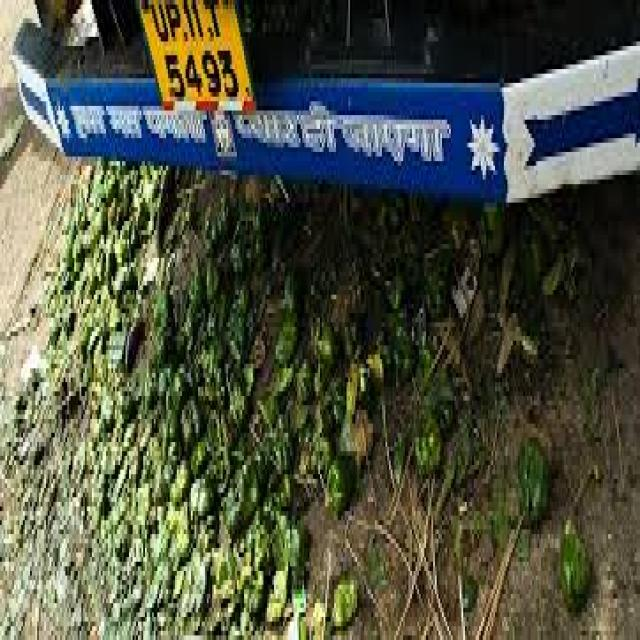food_waste: (47, 218, 533, 623)
